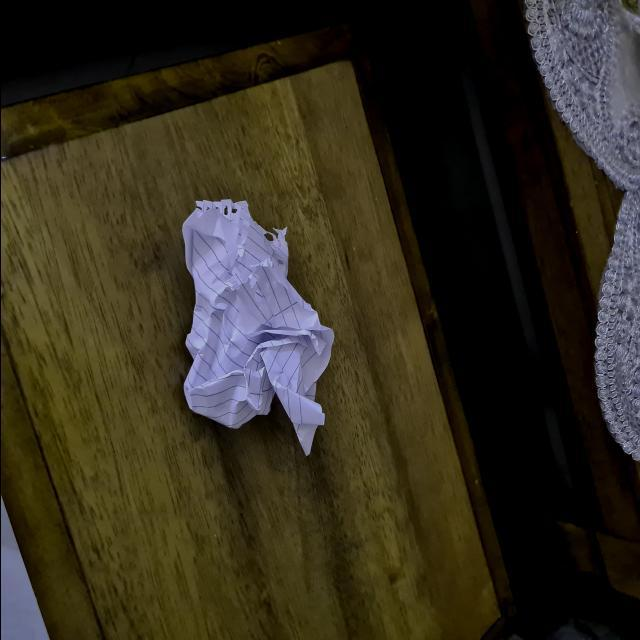Paper: (170, 193, 340, 468)
